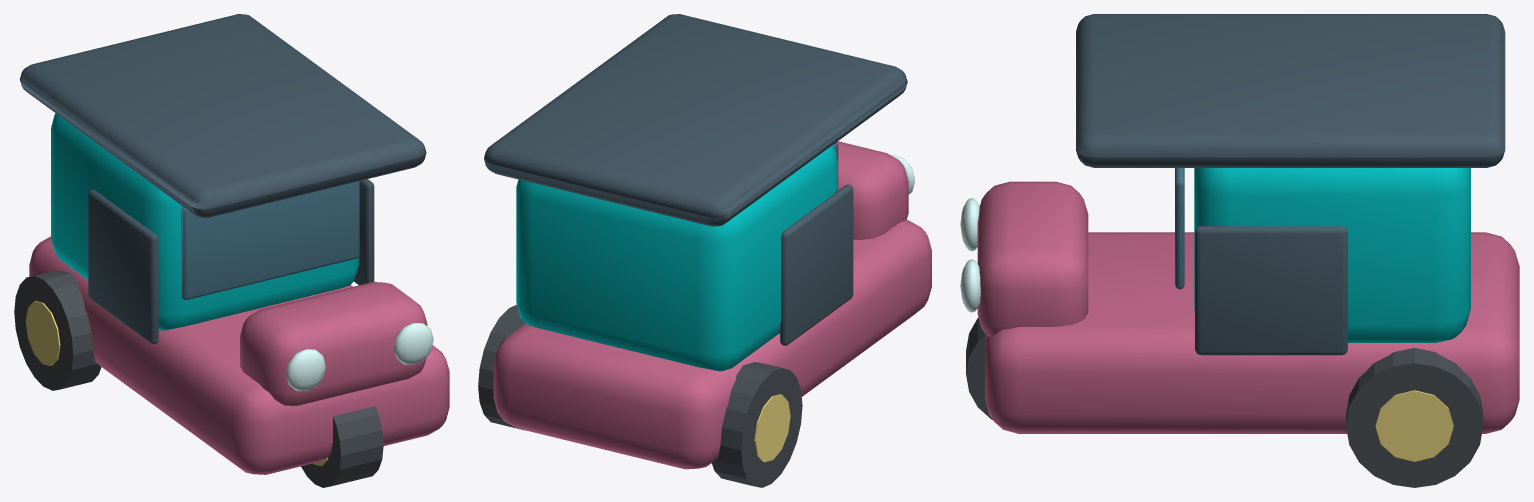
The model's file is tuk_tuk.glb.
3 renders of one model, left to right at view 1: azimuth 30°, elevation 25°; view 2: azimuth 150°, elevation 25°; view 3: azimuth 270°, elevation 25°, orthographic. The views are drawn at different scales.
Visible parts, largest first — view 1: Cylinder; view 2: Cylinder; view 3: Cylinder.
Part boxes in pixels (left/top/right/bottom): Cylinder: left=14, top=14, right=449, bottom=487; Cylinder: left=478, top=14, right=931, bottom=487; Cylinder: left=960, top=14, right=1519, bottom=487.
Bounding box in the file's own units: 1.8 × 1.99 × 2.93.
